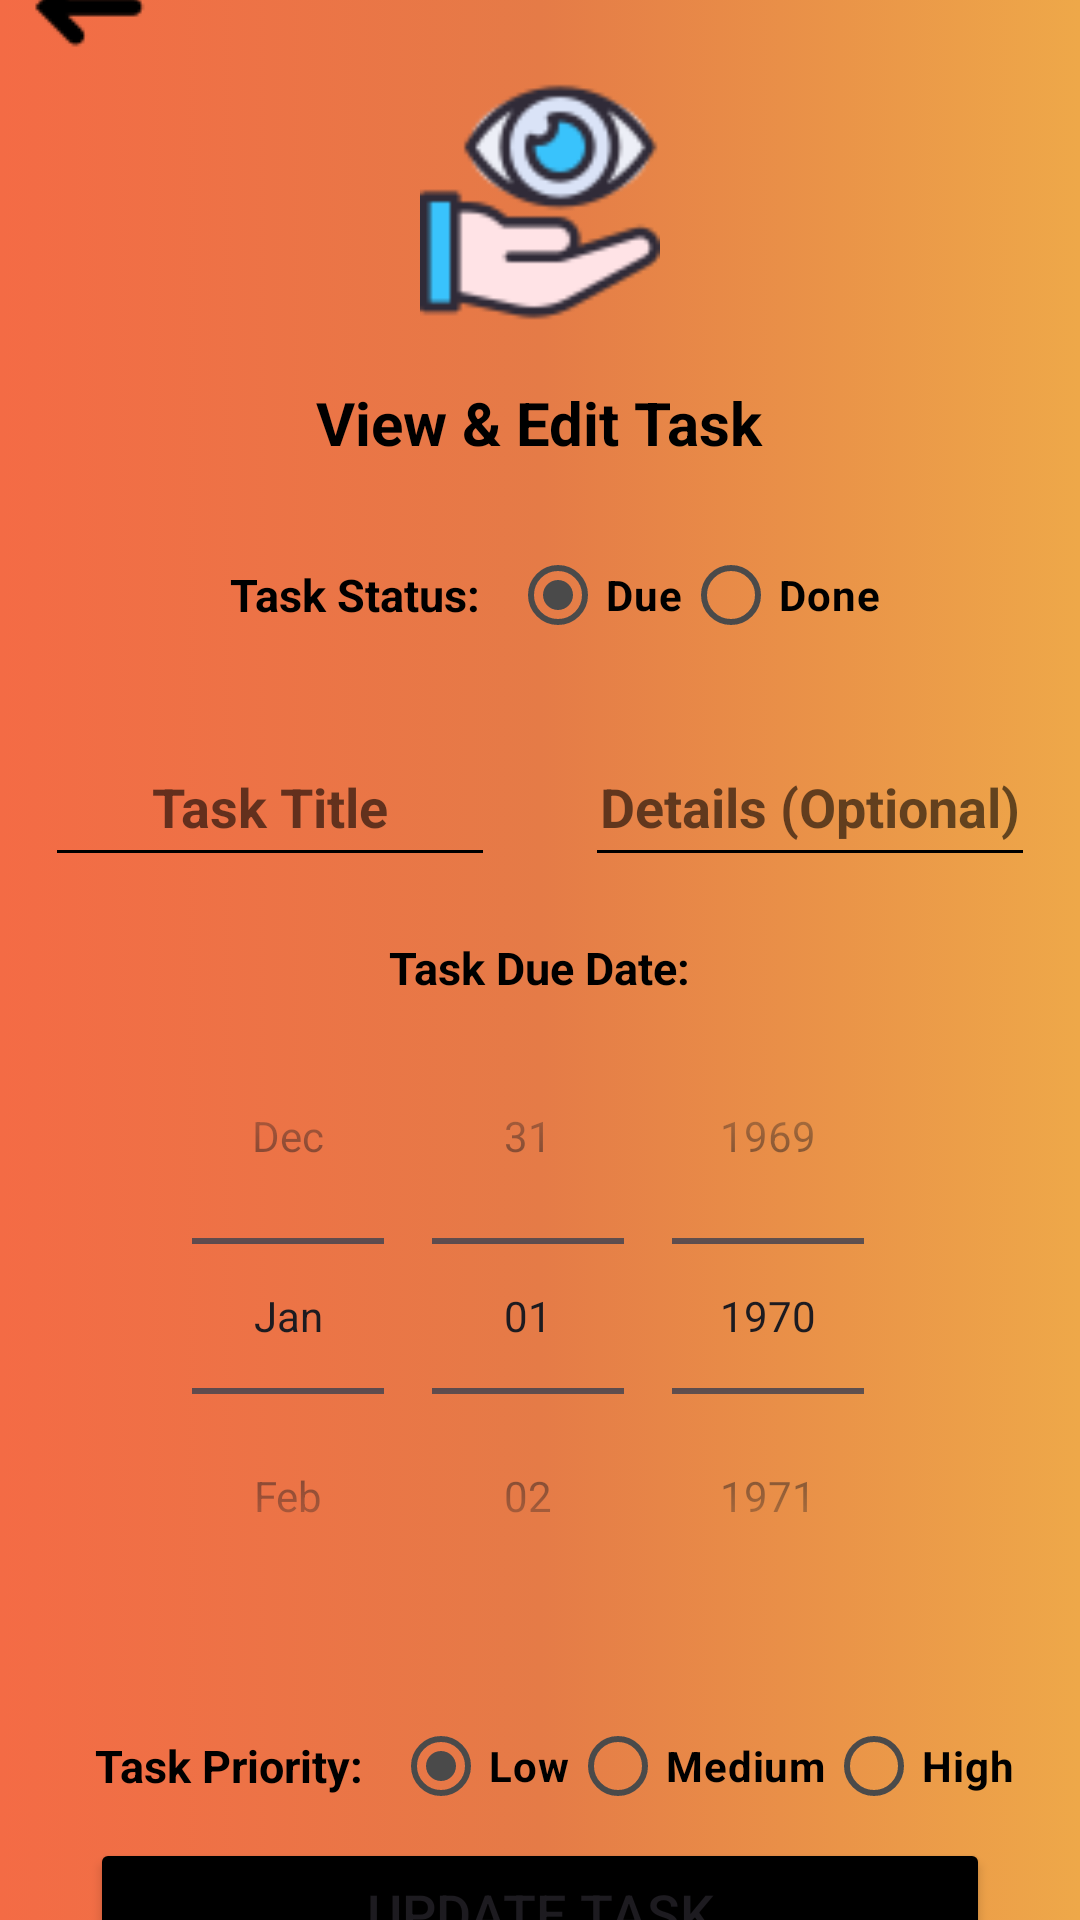

Named icons in this screenshot (1080*1920) and their bounding boxes, (x1, y1, x2, y2):
icon showing eye view: (420, 85, 660, 319)
